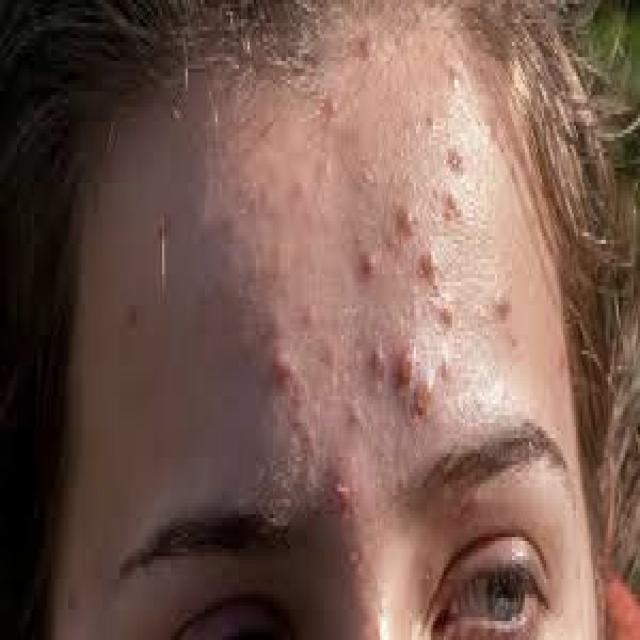Acne: (438, 180, 464, 229), (409, 376, 435, 424), (326, 468, 354, 512), (417, 244, 442, 292), (352, 26, 382, 66), (366, 338, 392, 384), (394, 337, 416, 389), (270, 343, 294, 389), (394, 196, 418, 240), (445, 136, 467, 182), (345, 392, 366, 436), (344, 538, 368, 575), (494, 281, 514, 325), (301, 296, 323, 332), (320, 88, 340, 126), (359, 245, 378, 283), (436, 350, 456, 386), (438, 300, 456, 333)
